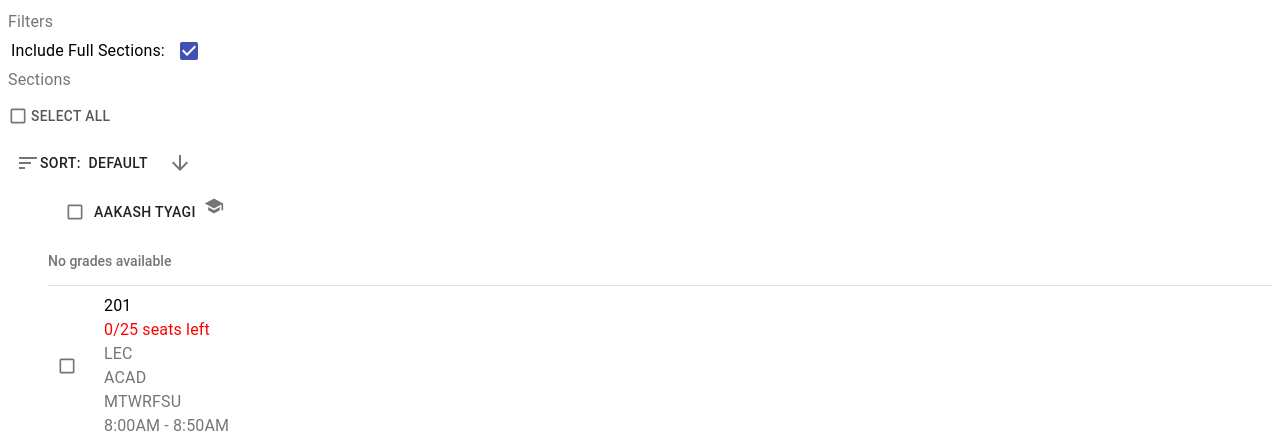
SectionSelect › section sorting › has a functioning pop-up menu
Click the button with aria-label "sort-menu".
click(82, 163)  # box [8,145,156,181]
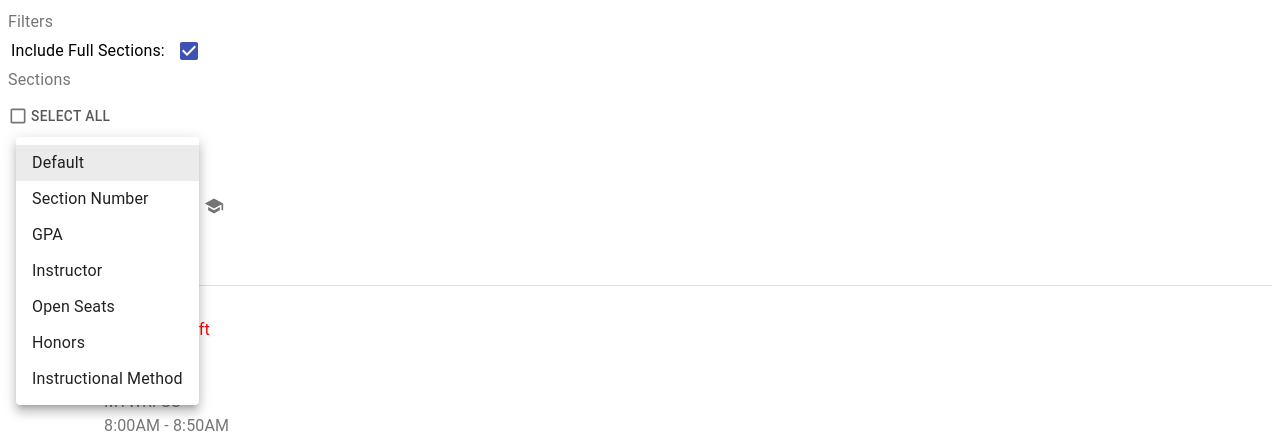
Expected: the number of menu items "Default" is 1, [16,145,199,181]
Expected: the number of menu items "Section Number" is 1, [32,189,149,208]
Expected: the number of menu items "GPA" is 1, [32,225,63,244]
